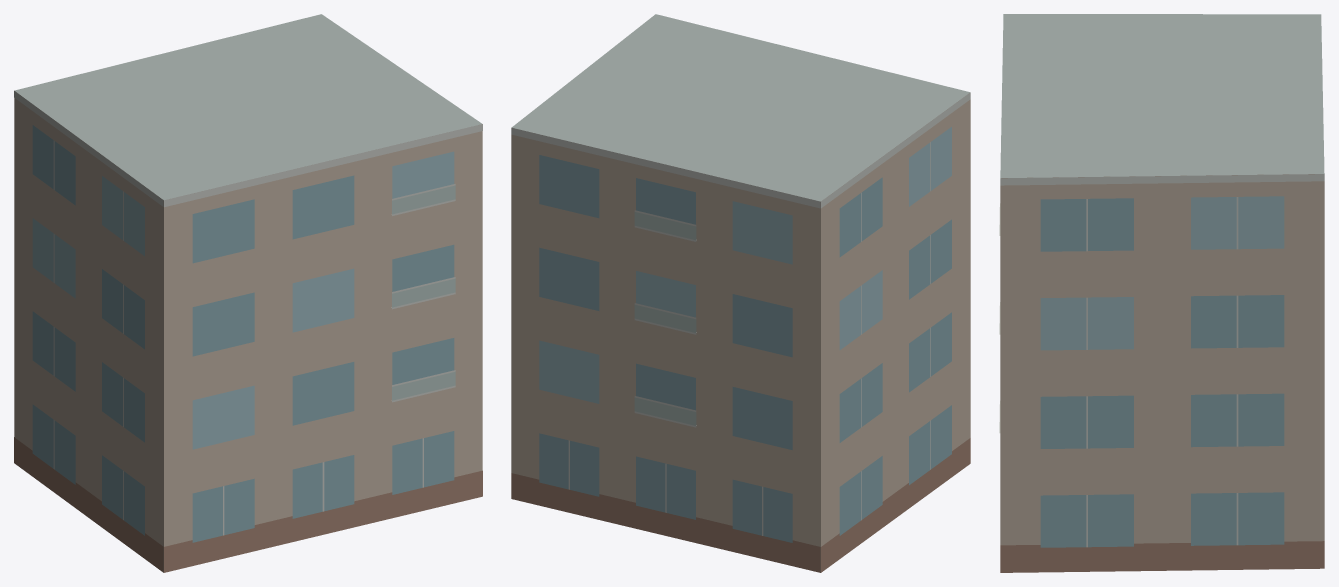
The model's file is survey-upis-32922411.glb.
The picture shows the model from 3 angles, left to right: view 1: azimuth 30°, elevation 25°; view 2: azimuth 150°, elevation 25°; view 3: azimuth 270°, elevation 25°; orthographic projection. The views are drawn at different scales.
Parts seen in each view (by area): view 1: survey-upis-32922411.tmp; view 2: survey-upis-32922411.tmp; view 3: survey-upis-32922411.tmp.
Part boxes in pixels (<box>): survey-upis-32922411.tmp: <box>14,14,482,572</box>; survey-upis-32922411.tmp: <box>511,14,970,572</box>; survey-upis-32922411.tmp: <box>999,14,1324,572</box>.
Bounding box in the file's own units: 11.6 × 13 × 9.71.
